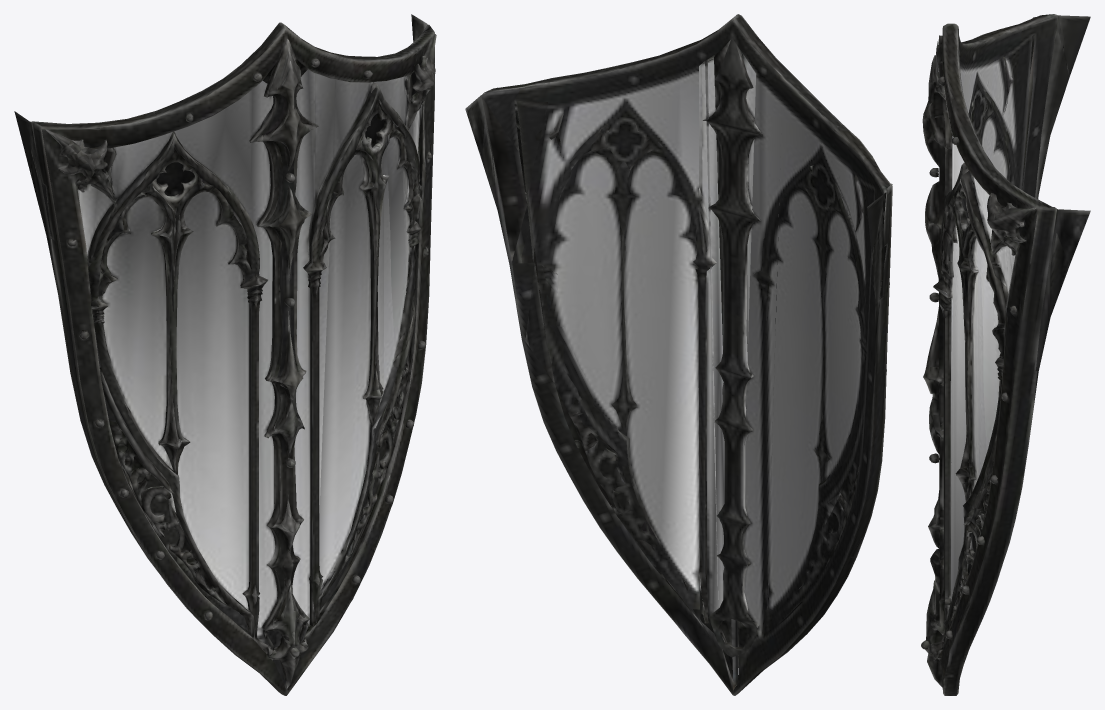
The model's file is shield-kite.glb.
The picture shows the model from 3 angles, left to right: view 1: azimuth 30°, elevation 25°; view 2: azimuth 150°, elevation 25°; view 3: azimuth 270°, elevation 25°; orthographic projection.
Bounding box in the file's own units: 0.5913 × 0.9507 × 0.2178.
1 material, 1 textured.
